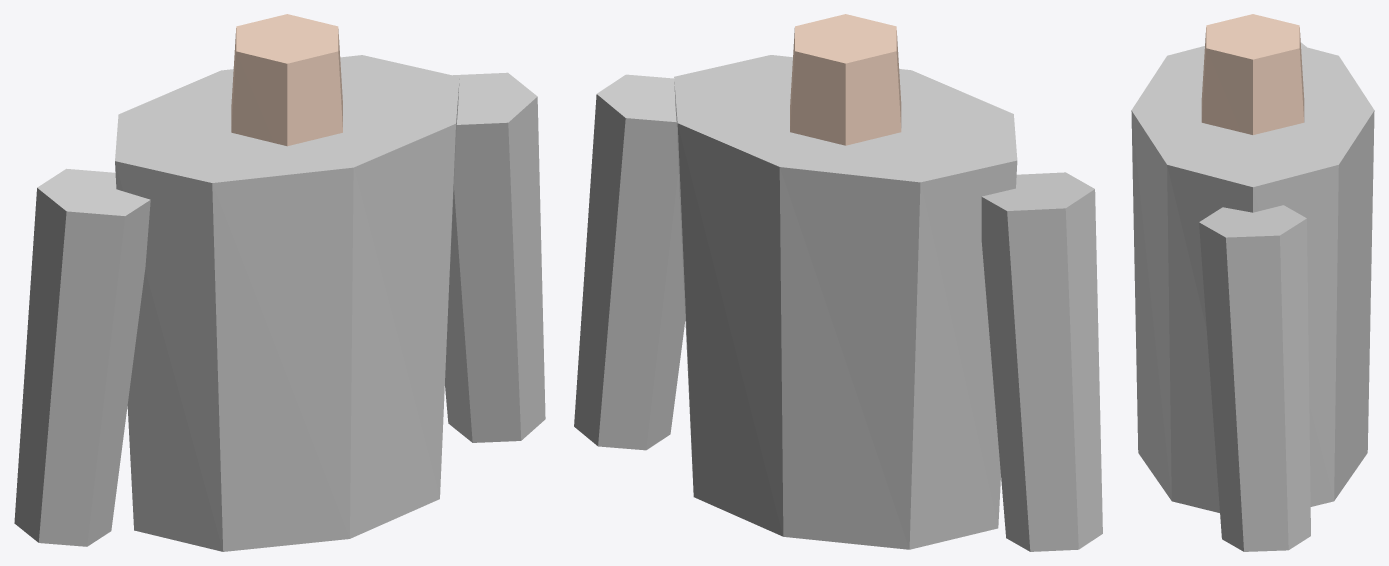
File: kiiro_upper.obj
The picture shows the model from 3 angles, left to right: view 1: azimuth 30°, elevation 25°; view 2: azimuth 150°, elevation 25°; view 3: azimuth 270°, elevation 25°; orthographic projection. The views are drawn at different scales.
Visible parts, largest first — view 1: kiiro_upper; view 2: kiiro_upper; view 3: kiiro_upper.
Boxes of the visible parts, x1,y1,x2,y2 form: kiiro_upper: (14, 14, 545, 551); kiiro_upper: (574, 14, 1102, 551); kiiro_upper: (1131, 14, 1374, 551).
Size of the model in its own units: 0.397 by 0.34 by 0.18.
